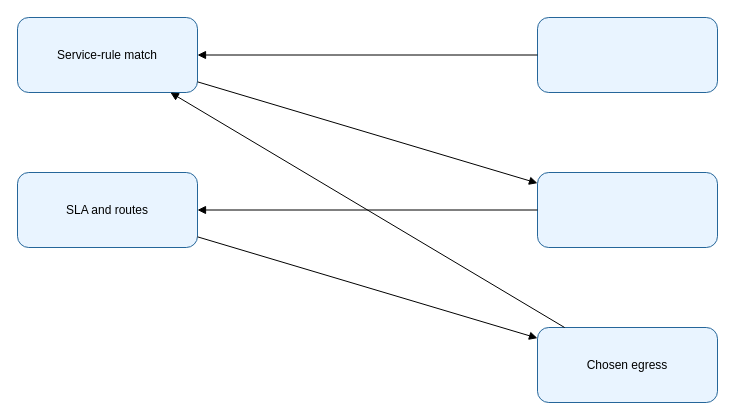
Image size: 735x420. Some labels were removed from this diagram. The shapes that lost their labels are listed below. From the top down, each one's box as (x1, y1, x2, y2) in pixels, then its label:
(536, 16, 718, 92): New session
(536, 172, 718, 248): Member strategy
